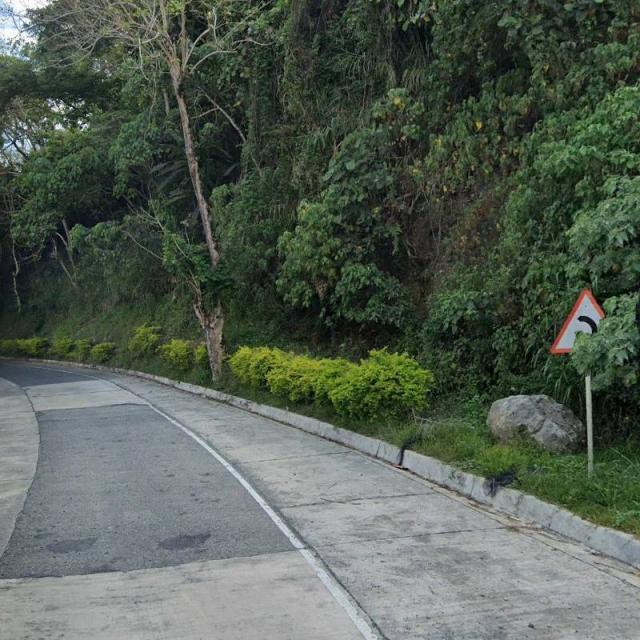warn_left_curve: (550, 287, 622, 354)
